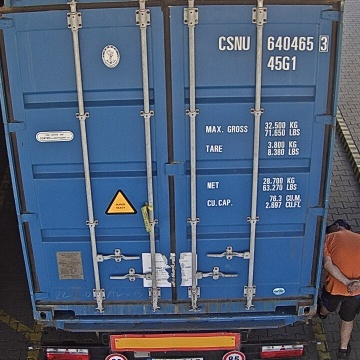serial_id: (219, 35, 328, 50)
